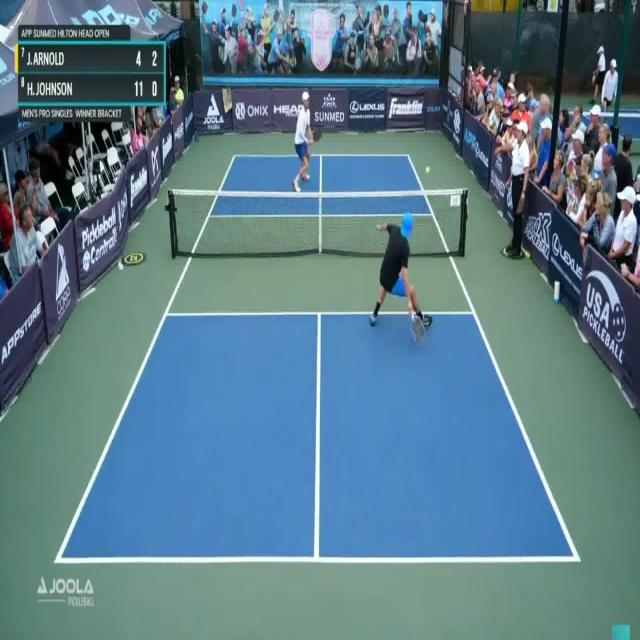Court: (59, 158, 578, 563)
ball: (424, 162, 432, 178)
